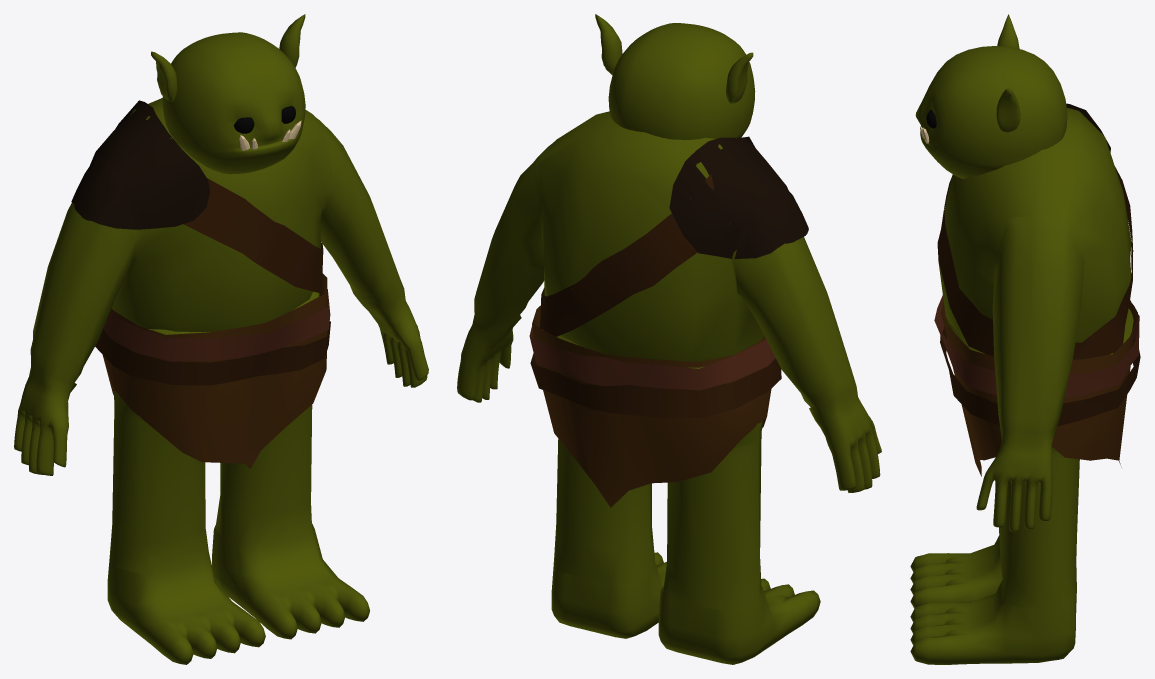
File: Enemy1.fbx
The picture shows the model from 3 angles, left to right: view 1: azimuth 30°, elevation 25°; view 2: azimuth 150°, elevation 25°; view 3: azimuth 270°, elevation 25°; orthographic projection. The views are drawn at different scales.
Visible parts, largest first — view 1: Body, Legs, Head.002, Shorts, Shoulder thing, Body belt, Belt2, Belt, EAR; view 2: Body, Legs, Shorts, Head.002, Shoulder thing, Body belt, Belt2, Belt, EAR; view 3: Body, Legs, Head.002, Shorts, Body belt, Belt, Belt2, EAR.
Boxes of the visible parts, x1=… form: Body: x1=14, y1=98, x2=428, y2=475; Legs: x1=107, y1=291, x2=369, y2=664; Head.002: x1=162, y1=32, x2=305, y2=174; Shorts: x1=102, y1=273, x2=327, y2=468; Shoulder thing: x1=71, y1=100, x2=209, y2=229; Body belt: x1=178, y1=162, x2=323, y2=293; Belt2: x1=95, y1=321, x2=330, y2=385; Belt: x1=103, y1=289, x2=330, y2=361; EAR: x1=151, y1=14, x2=305, y2=101; Body: x1=457, y1=111, x2=881, y2=492; Legs: x1=542, y1=329, x2=820, y2=664; Shorts: x1=532, y1=305, x2=771, y2=507; Head.002: x1=608, y1=23, x2=755, y2=139; Shoulder thing: x1=669, y1=136, x2=808, y2=258; Body belt: x1=539, y1=174, x2=730, y2=336; Belt2: x1=530, y1=353, x2=781, y2=418; Belt: x1=529, y1=325, x2=775, y2=390; EAR: x1=595, y1=14, x2=753, y2=104; Body: x1=938, y1=108, x2=1131, y2=532; Legs: x1=910, y1=308, x2=1133, y2=664; Head.002: x1=915, y1=46, x2=1067, y2=178; Shorts: x1=940, y1=301, x2=1137, y2=476; Body belt: x1=937, y1=167, x2=1133, y2=359; Belt: x1=934, y1=295, x2=1139, y2=397; Belt2: x1=940, y1=326, x2=1140, y2=426; EAR: x1=996, y1=14, x2=1020, y2=132.
Bounding box in the file's own units: 2389 × 3398 × 1237.
